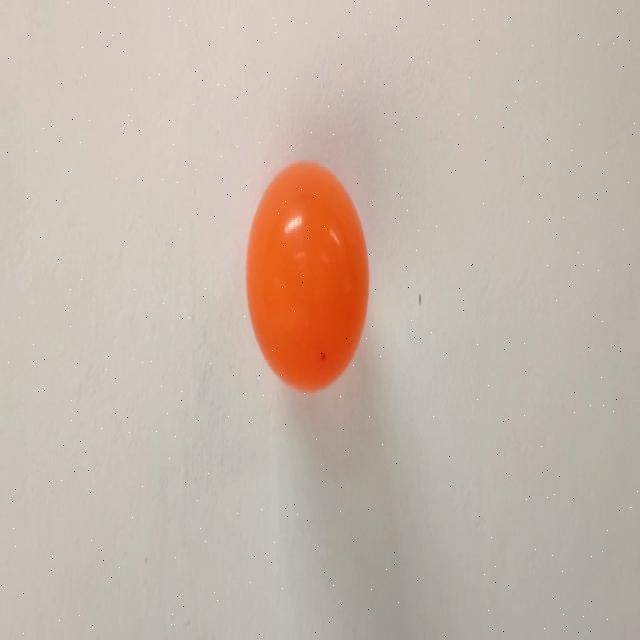red: (244, 160, 369, 394)
